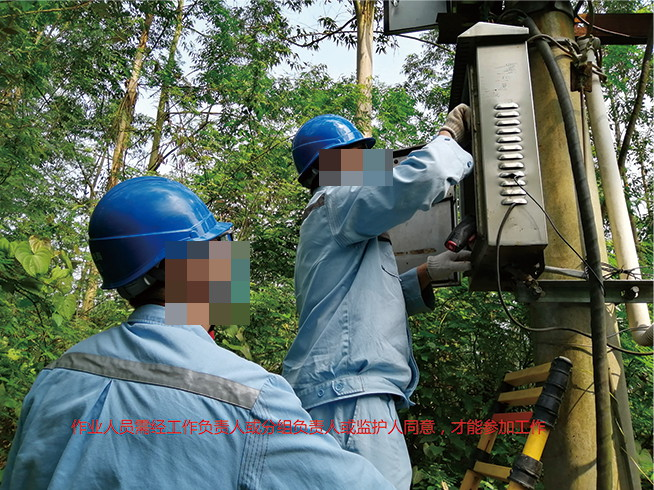halt: (83, 179, 241, 311), (292, 114, 374, 185)
inear: (164, 247, 224, 306), (321, 153, 360, 178)
person: (2, 174, 341, 490), (284, 98, 476, 490)
upsuit: (1, 295, 396, 490), (288, 136, 474, 397)
wglove: (434, 99, 476, 140), (430, 248, 471, 280)
